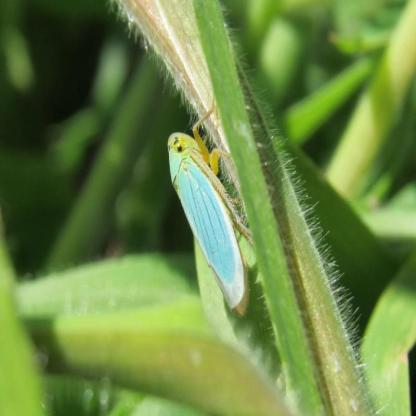Green-Leafhopper: (160, 100, 263, 326)
